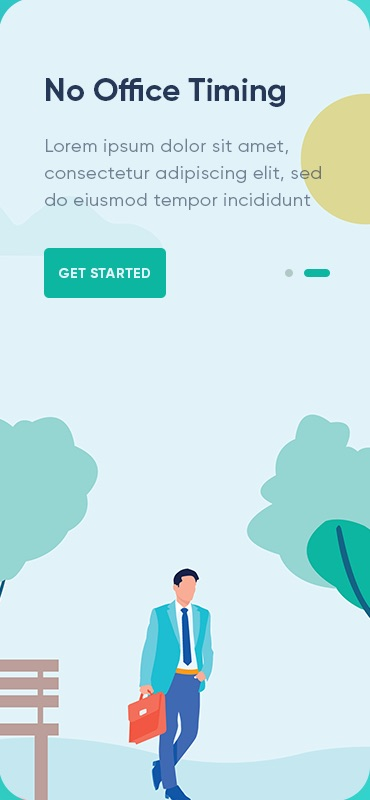BackgroundImage: (1, 2, 370, 800)
PageIndicator: (283, 266, 332, 281)
Text: (45, 138, 322, 212), (46, 76, 287, 109)
TextButton: (44, 248, 167, 299)
